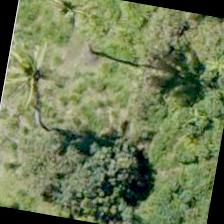Kelapa_Sawit: (0, 14, 85, 116), (18, 0, 119, 62)
